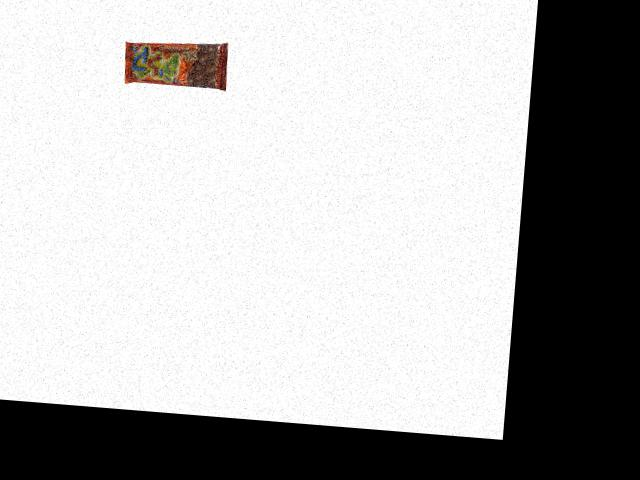chocolate: (122, 36, 229, 91)
